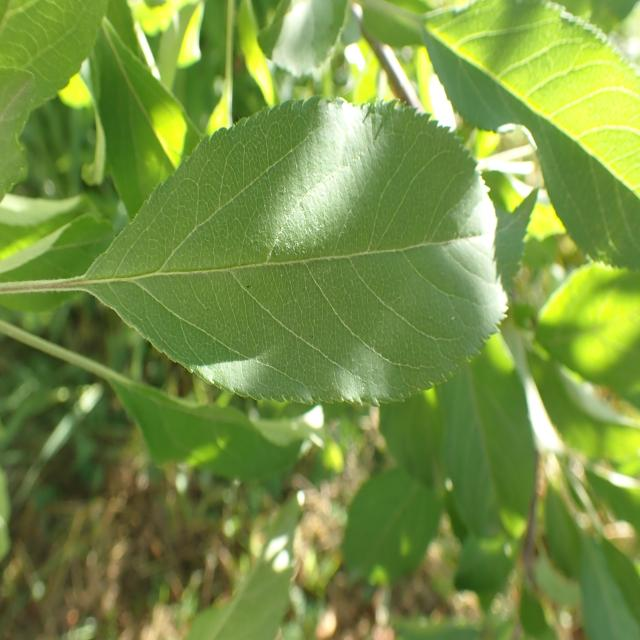healthy: (87, 95, 510, 408), (422, 0, 640, 272), (0, 0, 109, 198), (533, 262, 640, 406), (258, 0, 349, 80)
